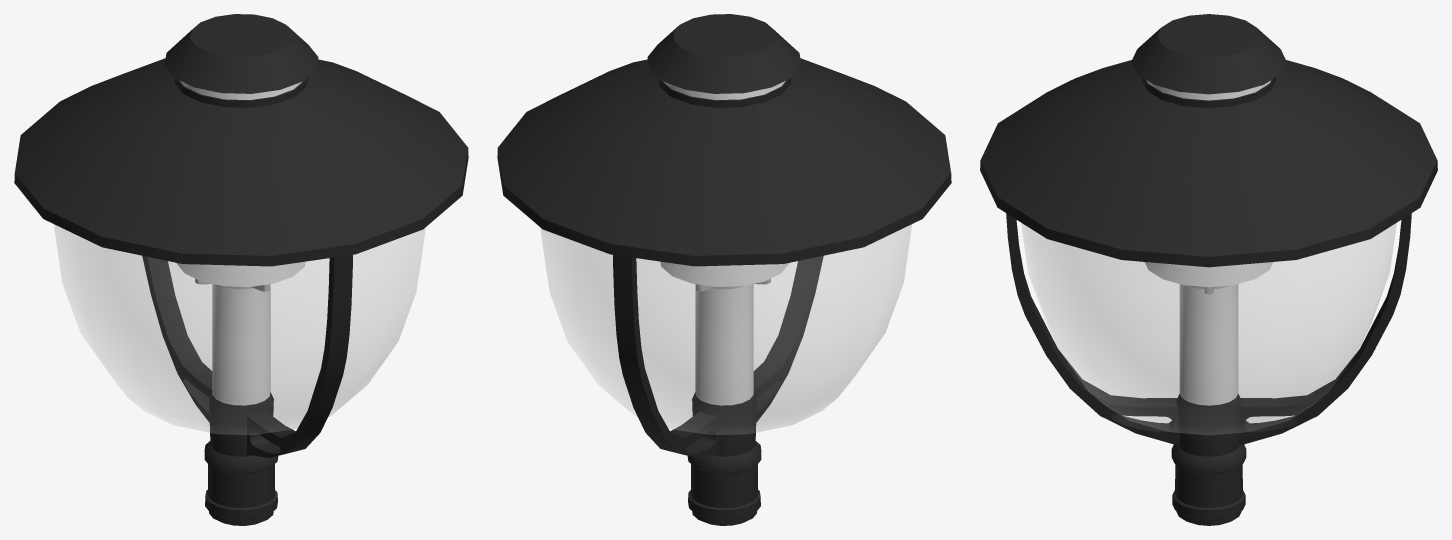
The model's file is Gamma.glb.
3 renders of one model, left to right at view 1: azimuth 30°, elevation 25°; view 2: azimuth 150°, elevation 25°; view 3: azimuth 270°, elevation 25°, orthographic.
Parts seen in each view (by area): view 1: Lampe, Glas, Seitenstreben, Lamellen; view 2: Lampe, Glas, Seitenstreben, Lamellen; view 3: Lampe, Glas, Seitenstreben, Lamellen.
Boxes of the visible parts, left/top/right/bottom form: Lampe: left=14, top=14, right=468, bottom=525; Glas: left=54, top=224, right=425, bottom=434; Seitenstreben: left=142, top=255, right=352, bottom=457; Lamellen: left=176, top=261, right=305, bottom=286; Lampe: left=497, top=14, right=951, bottom=525; Glas: left=540, top=224, right=911, bottom=434; Seitenstreben: left=613, top=255, right=823, bottom=457; Lamellen: left=660, top=261, right=789, bottom=286; Lampe: left=980, top=14, right=1437, bottom=525; Glas: left=1021, top=223, right=1396, bottom=434; Seitenstreben: left=1006, top=213, right=1411, bottom=445; Lamellen: left=1144, top=262, right=1273, bottom=287.
Bounding box in the file's own units: 0.6308 × 0.7282 × 0.6308.
4 materials, 3 textured.
